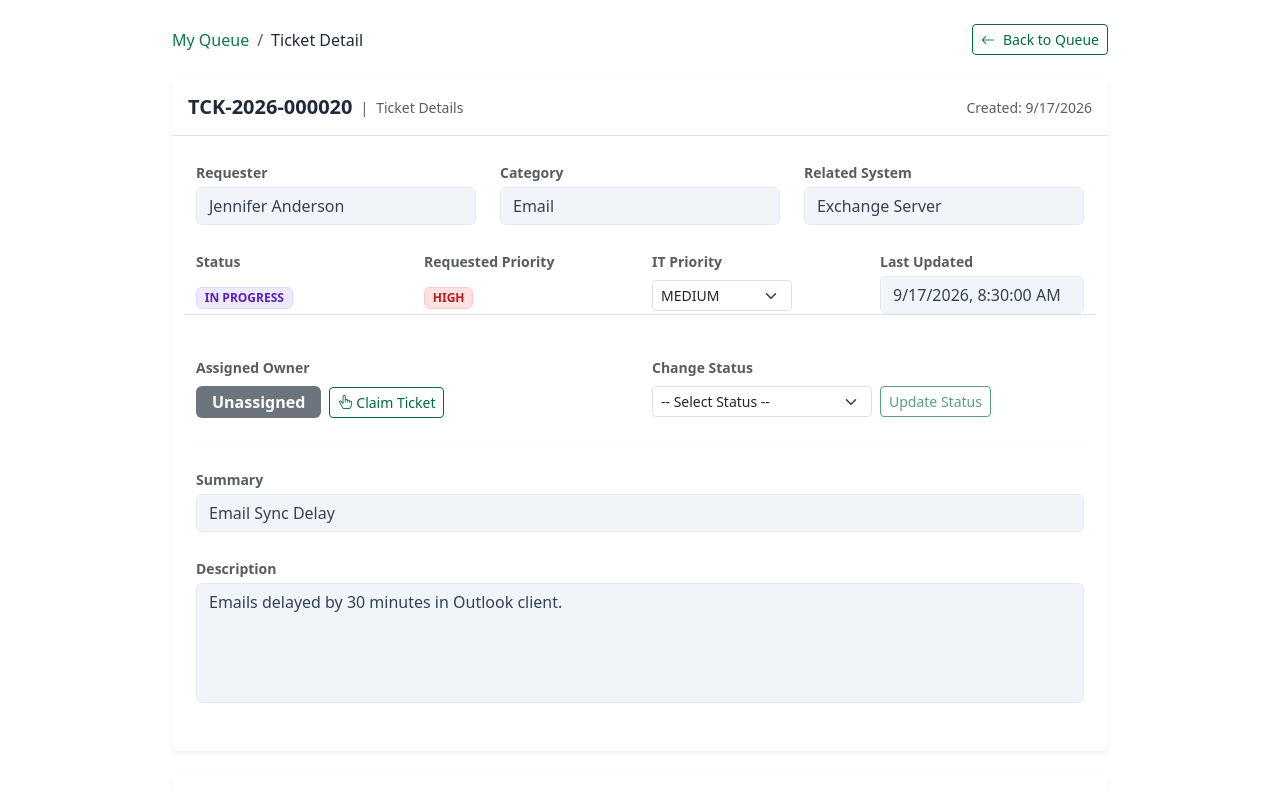
Test: Ticket Workflow UI (Lab 4) › UI-15: an Administrator can claim, set IT Priority and change status like IT Staff
Click the button "Claim Ticket": point(387, 402) [329,386,444,418]
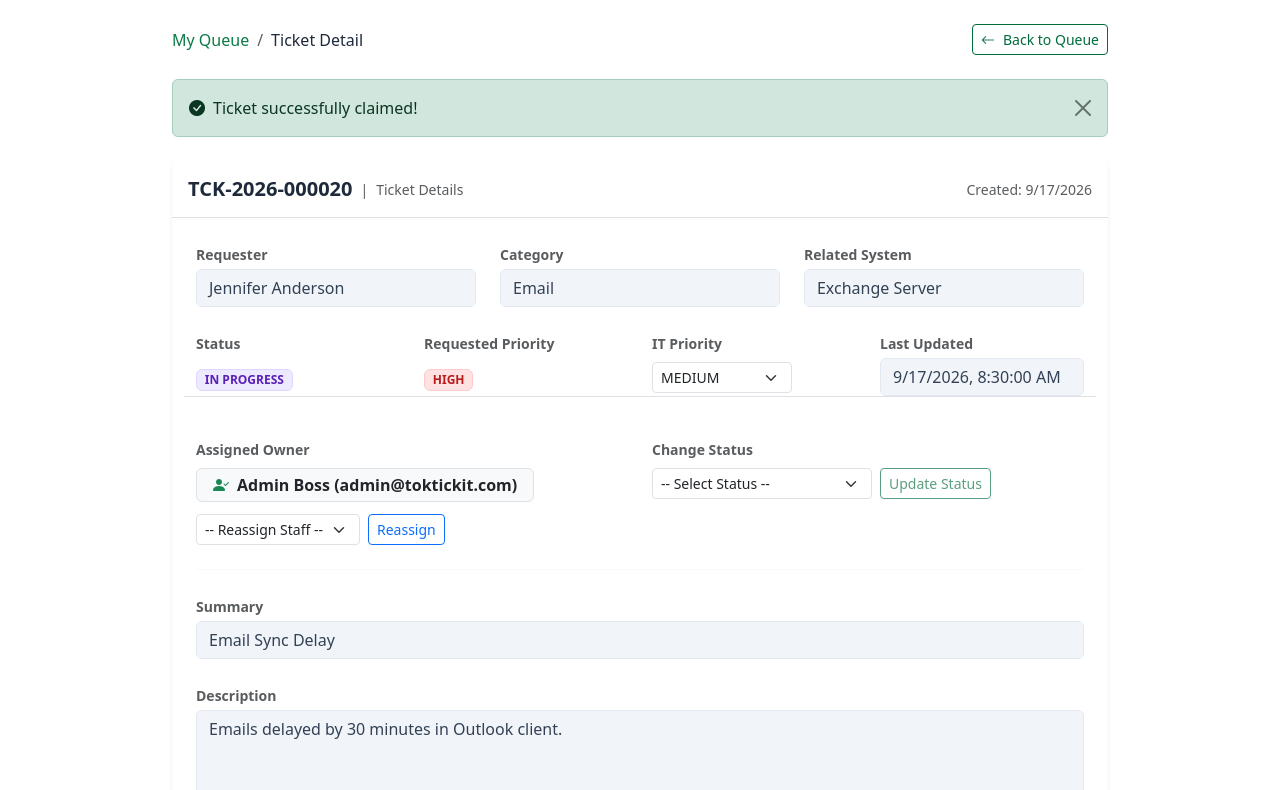
Expected: the text "Ticket successfully claimed!" is shown, [172,79,1108,137]
Select "CRITICAL" in the dropdown named "it priority": point(722, 378) [652,362,792,393]
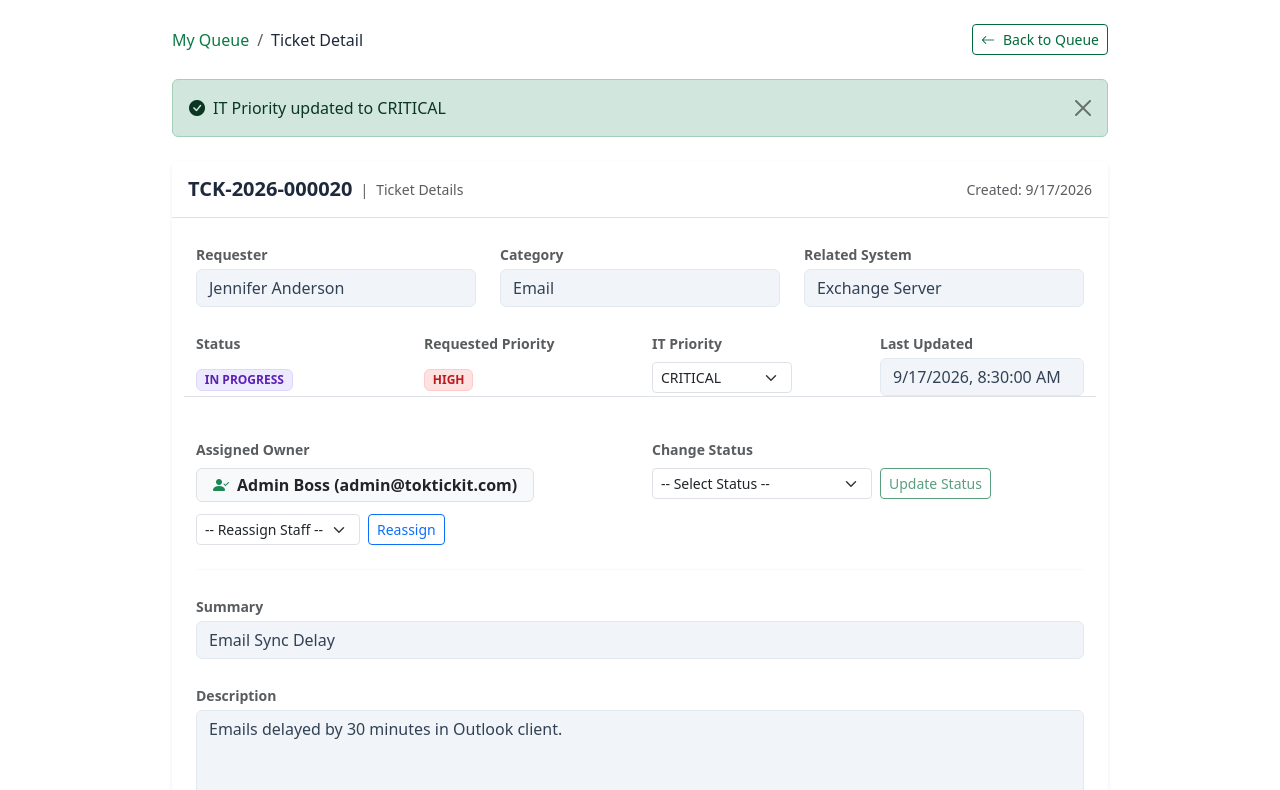
Select "Waiting for Requester" in the dropdown named "change status": point(762, 484) [652,468,872,499]
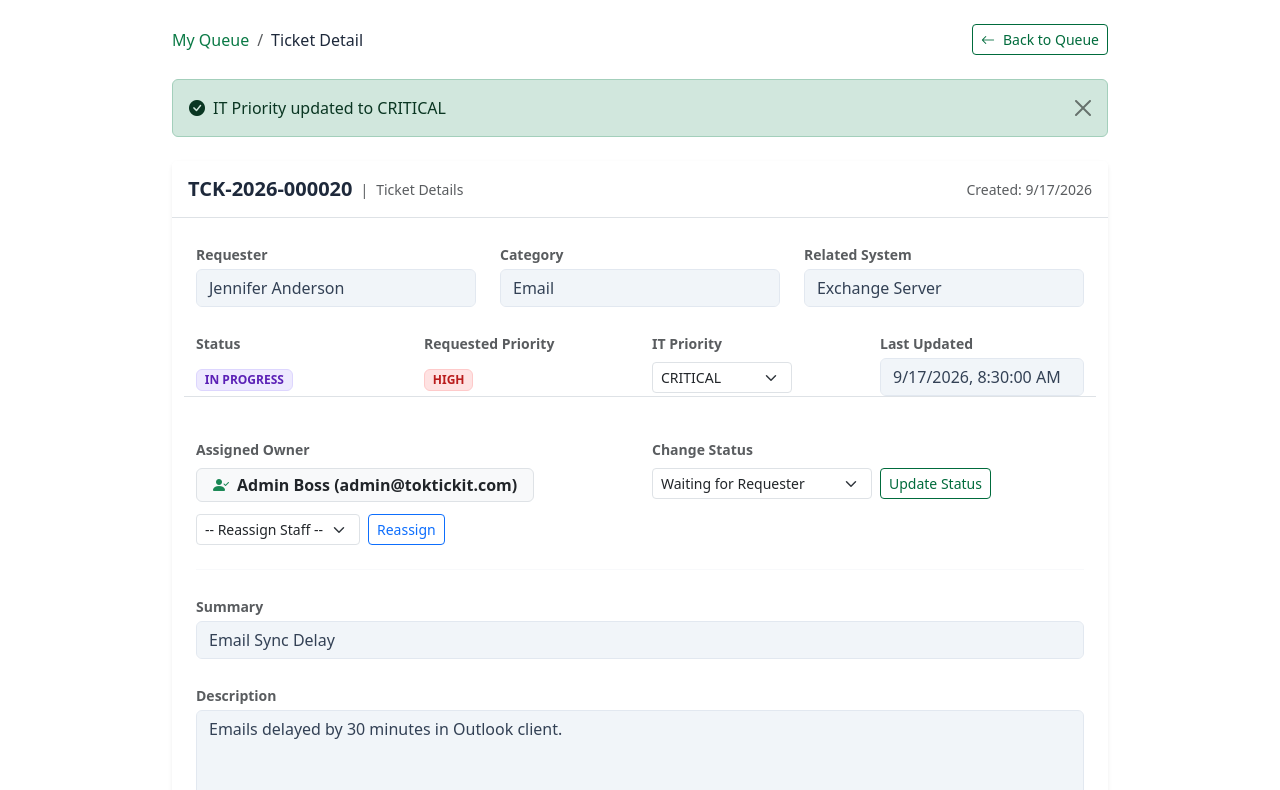
Click the button "Update Status": point(935, 484) [880,468,991,499]
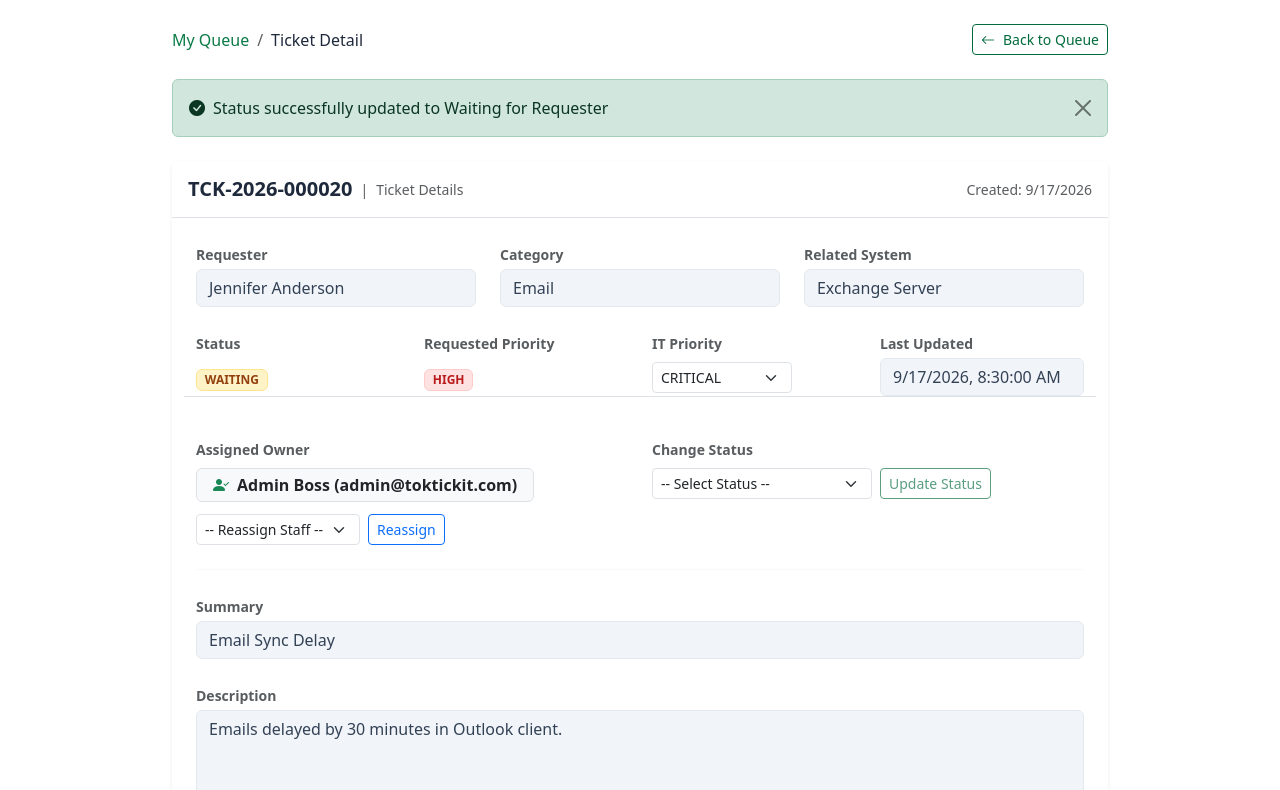
Expected: the text "Status successfully updated to Waiting for Requester" is shown, [172,79,1108,137]
